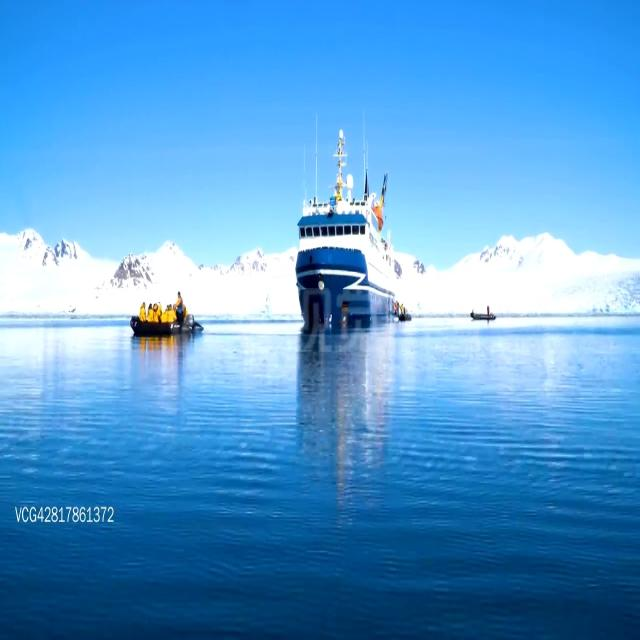houseboat: (125, 285, 199, 335), (469, 302, 497, 322), (398, 307, 412, 326)
passenger ship: (293, 128, 397, 327)
